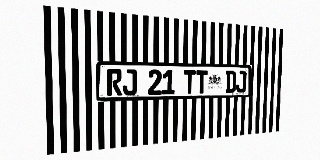1: (162, 70, 175, 95)
2: (148, 69, 162, 95)
D: (225, 71, 236, 93)
J: (123, 69, 137, 95), (236, 71, 246, 93)
R: (107, 69, 122, 96)
T: (184, 70, 196, 94), (196, 70, 208, 94)
